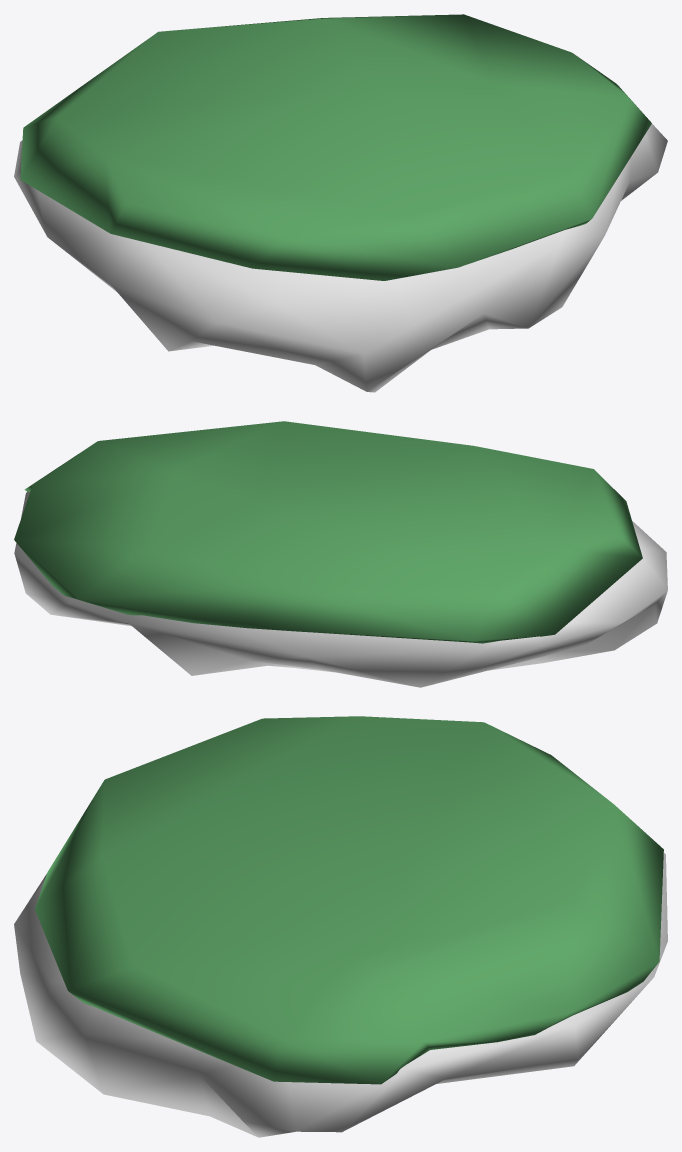
The model's file is IslandCircleSmall1LOD.fbx.
The picture shows the model from 3 angles, top to bottom: view 1: azimuth 30°, elevation 25°; view 2: azimuth 150°, elevation 25°; view 3: azimuth 270°, elevation 25°; orthographic projection. The views are drawn at different scales.
Visible parts, largest first — view 1: Cube.005, Cube.002; view 2: Cube.005, Cube.002; view 3: Cube.005, Cube.002.
Boxes of the visible parts, box(x1,y1,x2,y2) form: Cube.005: box(20, 14, 651, 280); Cube.002: box(14, 124, 667, 392); Cube.005: box(14, 421, 642, 643); Cube.002: box(14, 491, 667, 687); Cube.005: box(35, 716, 663, 1084); Cube.002: box(14, 852, 667, 1137).
Bounding box in the file's own units: 5256 × 1694 × 4284.
